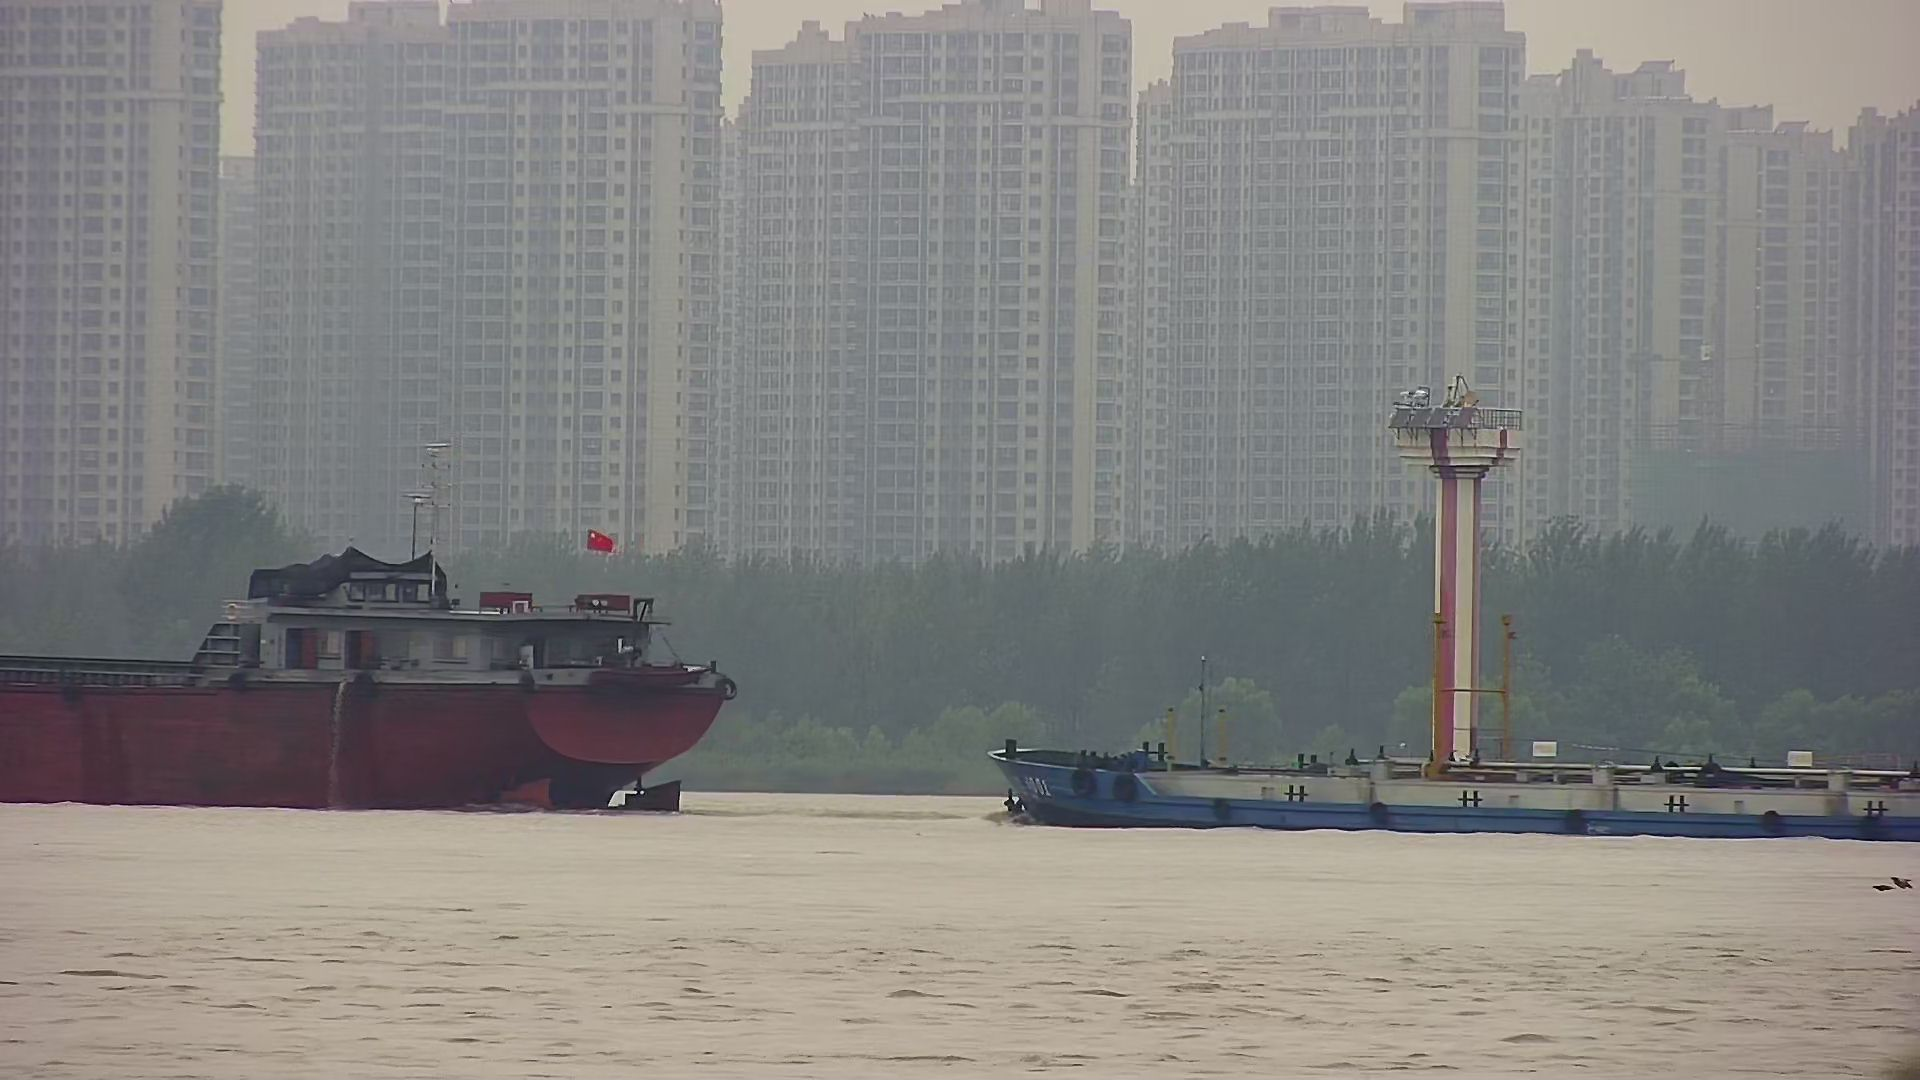platform: (1391, 384, 1519, 840)
ship: (1, 440, 740, 820), (990, 608, 1920, 845)
